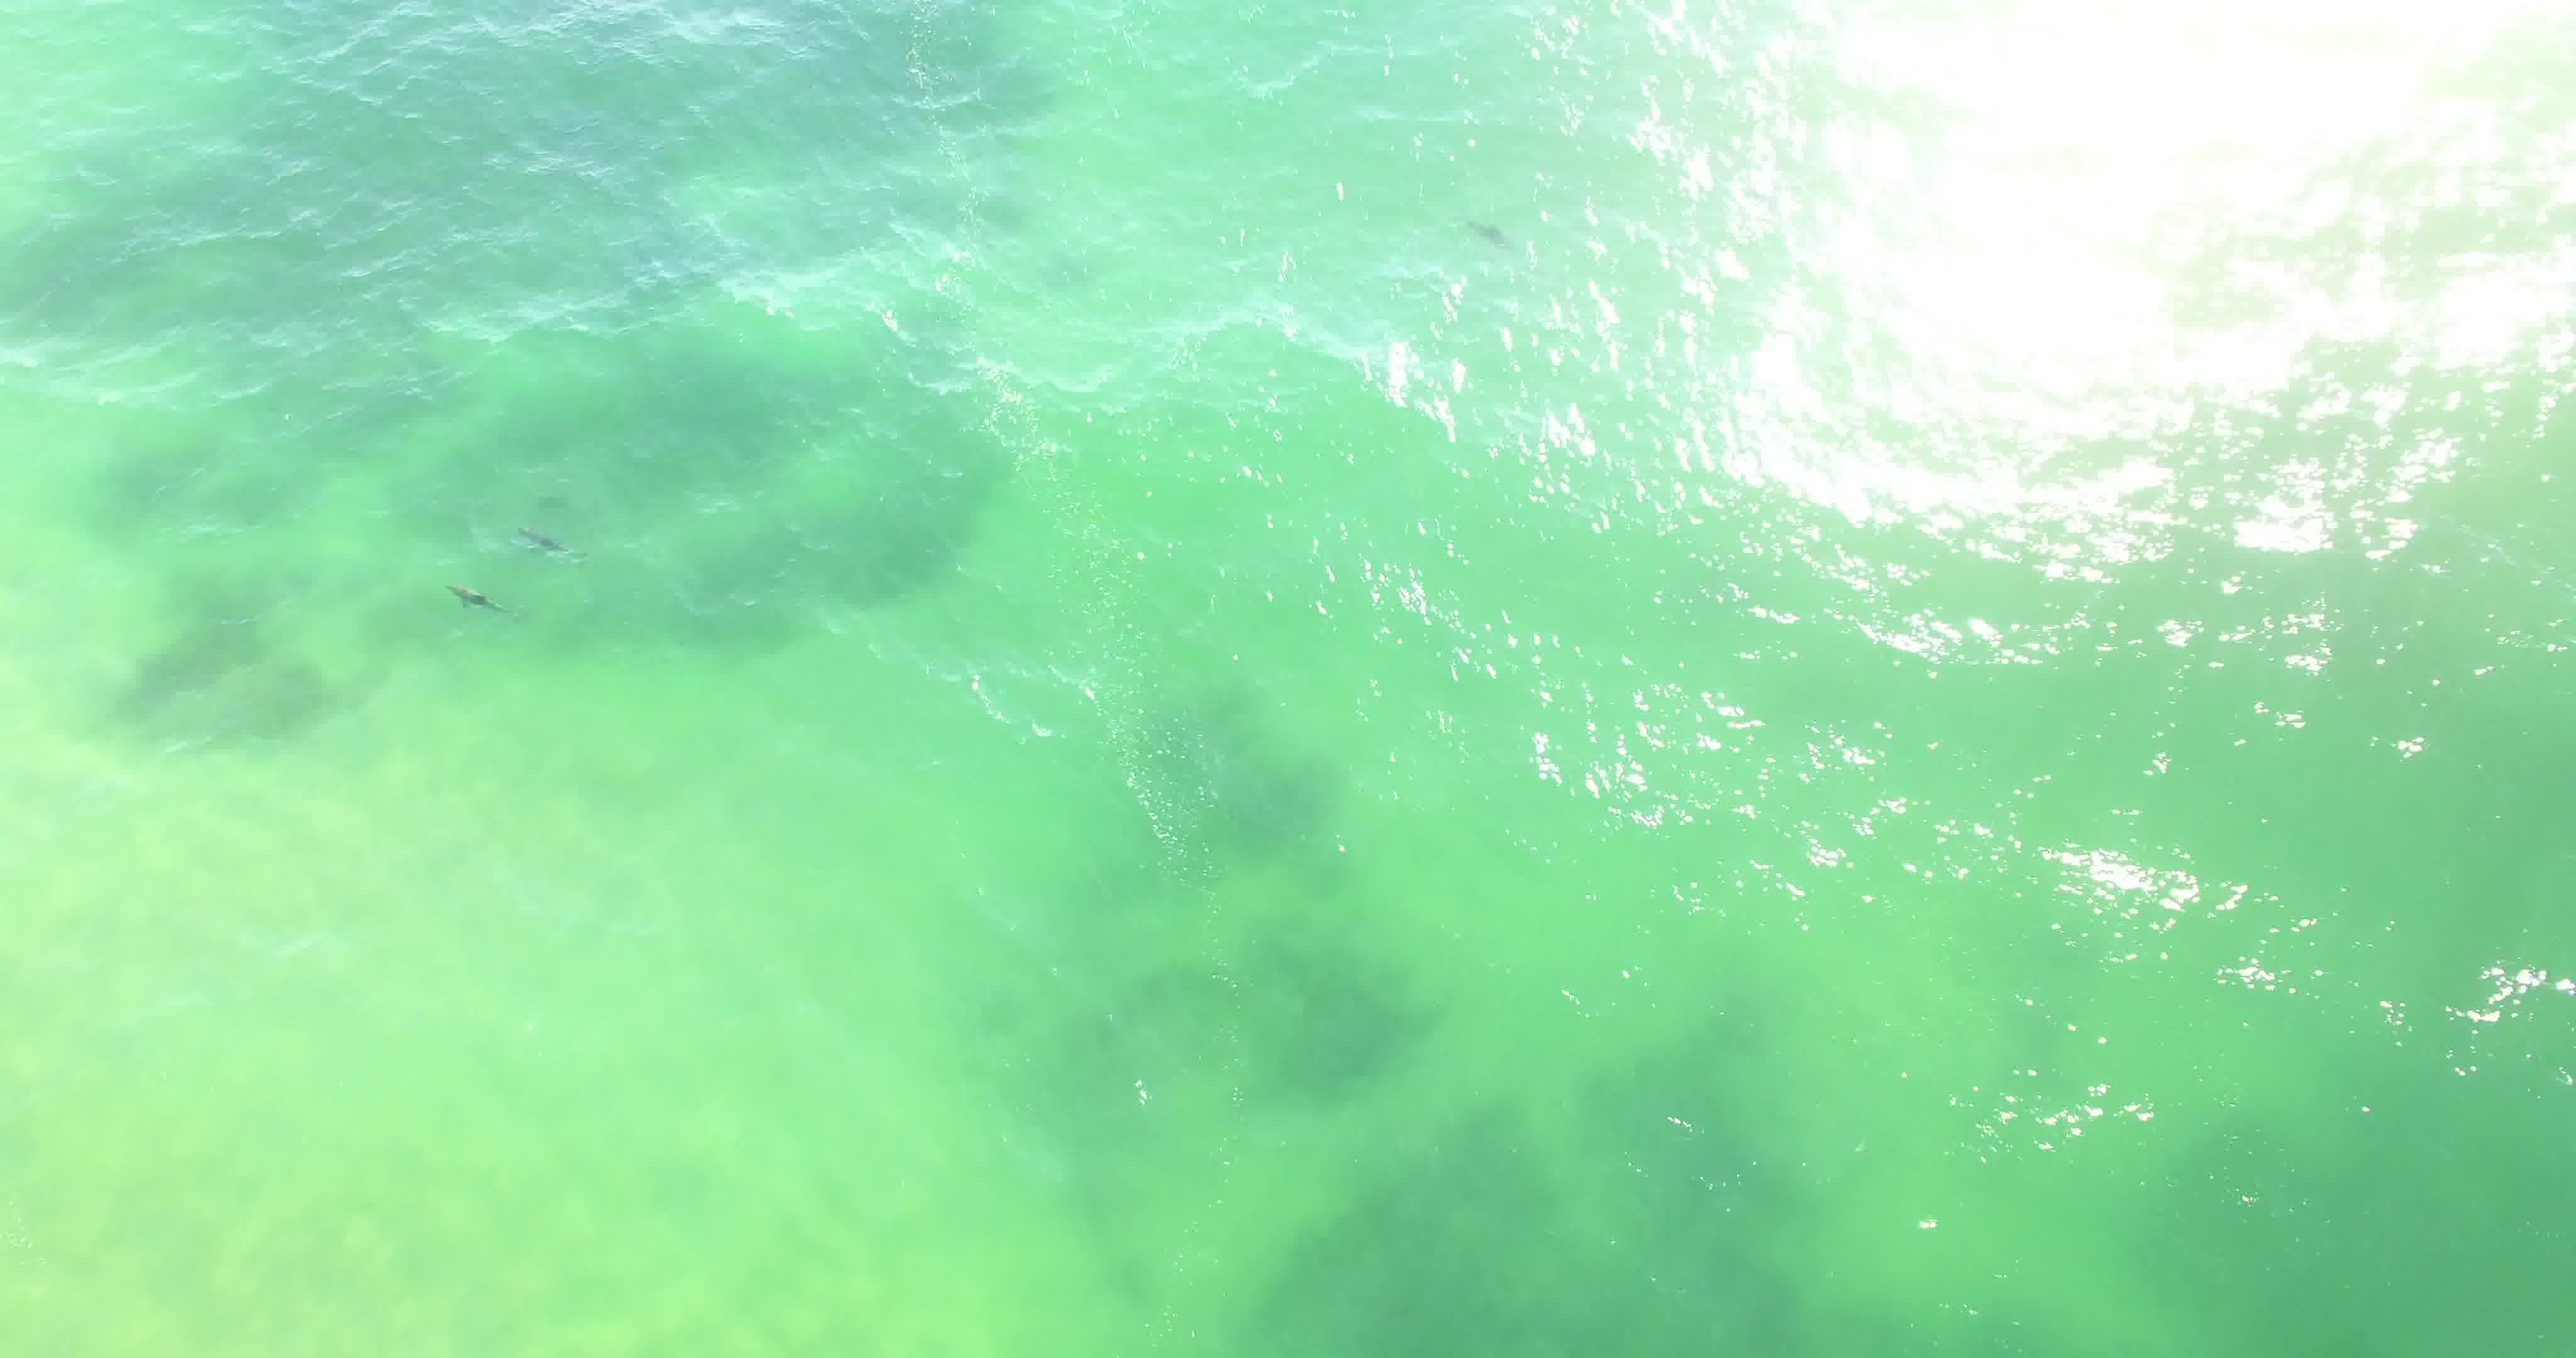dolphin: (421, 555, 523, 630), (509, 504, 595, 567), (1448, 204, 1537, 264)
